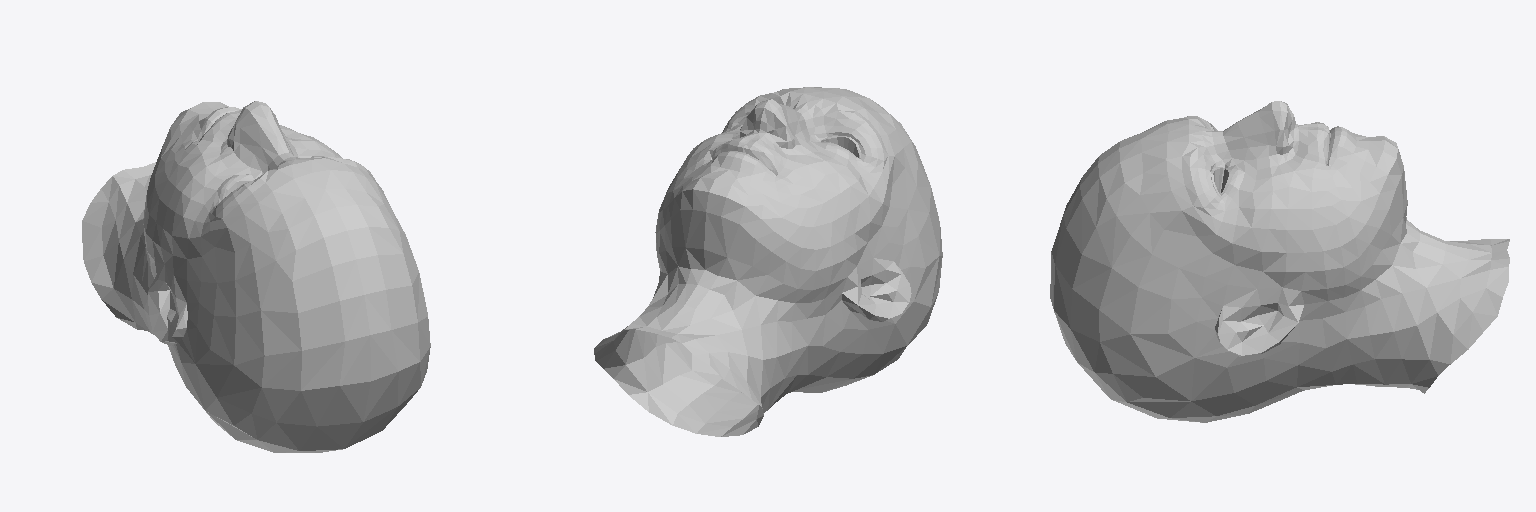
Rendered from femalehead_original.obj.
3 renders of one model, left to right at view 1: azimuth 30°, elevation 25°; view 2: azimuth 150°, elevation 25°; view 3: azimuth 270°, elevation 25°, orthographic.
Parts seen in each view (by area): view 1: FemaleHead; view 2: FemaleHead; view 3: FemaleHead.
Boxes of the visible parts, x1=… form: FemaleHead: x1=82, y1=101, x2=430, y2=452; FemaleHead: x1=594, y1=87, x2=942, y2=436; FemaleHead: x1=1050, y1=101, x2=1509, y2=422.
Size of the model in its own units: 12.61 by 16.27 by 21.83.